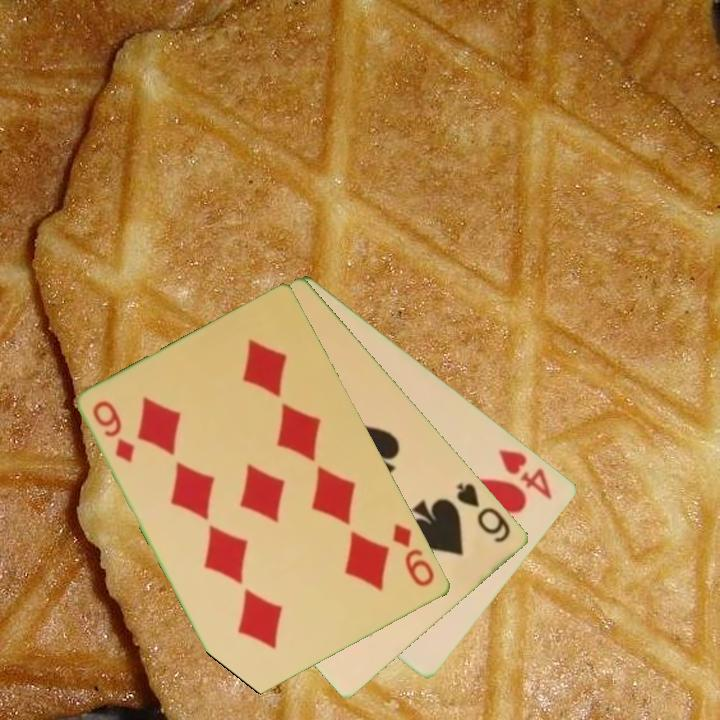4h: (495, 445, 556, 502)
6s: (454, 479, 514, 546)
9d: (89, 397, 139, 467), (389, 520, 438, 590)
